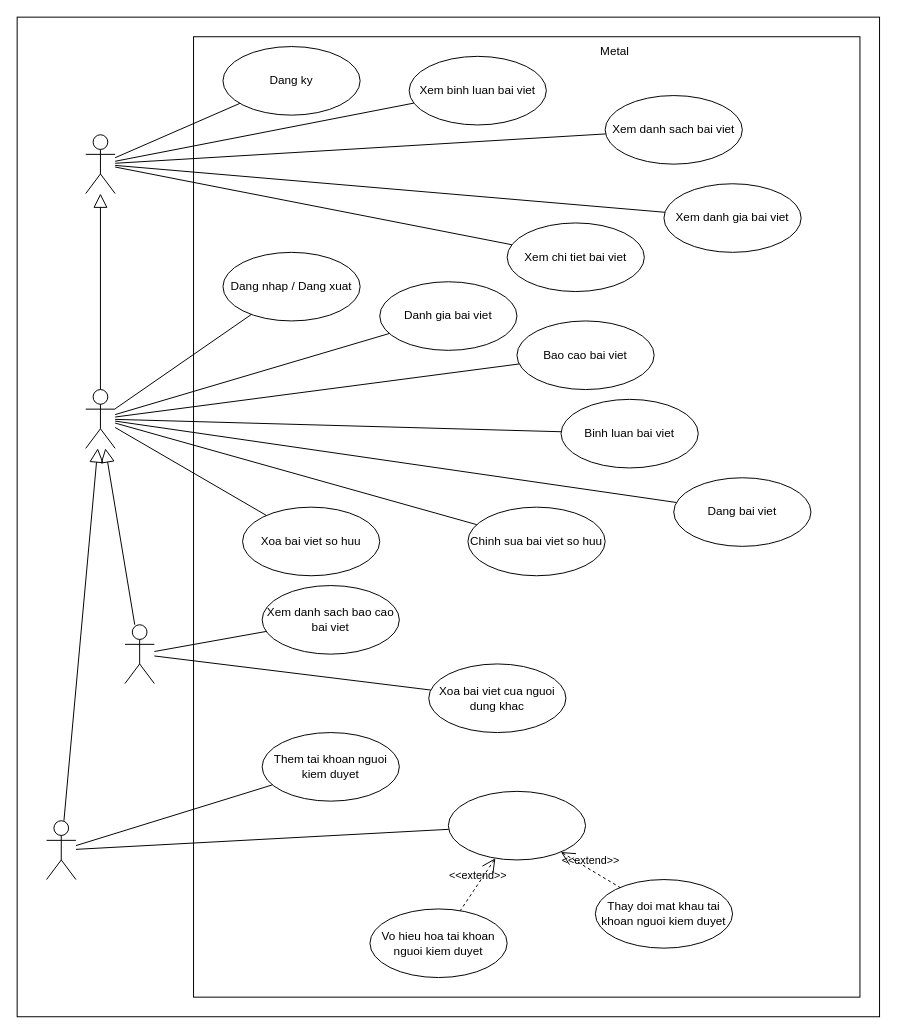
This 897x1034 diagram has some shape labels left out. The centre of each missing label's shape, as x and y in pixels:
"Khach vang lai" belongs at pixel 100 164.
"Nguoi dung co ban" belongs at pixel 100 418.
"Nguoi kiem duyet" belongs at pixel 139 654.
"Quan tri vien" belongs at pixel 61 850.
"Xem danh sach tai khoan nguoi kiem duyet" belongs at pixel 516 825.
